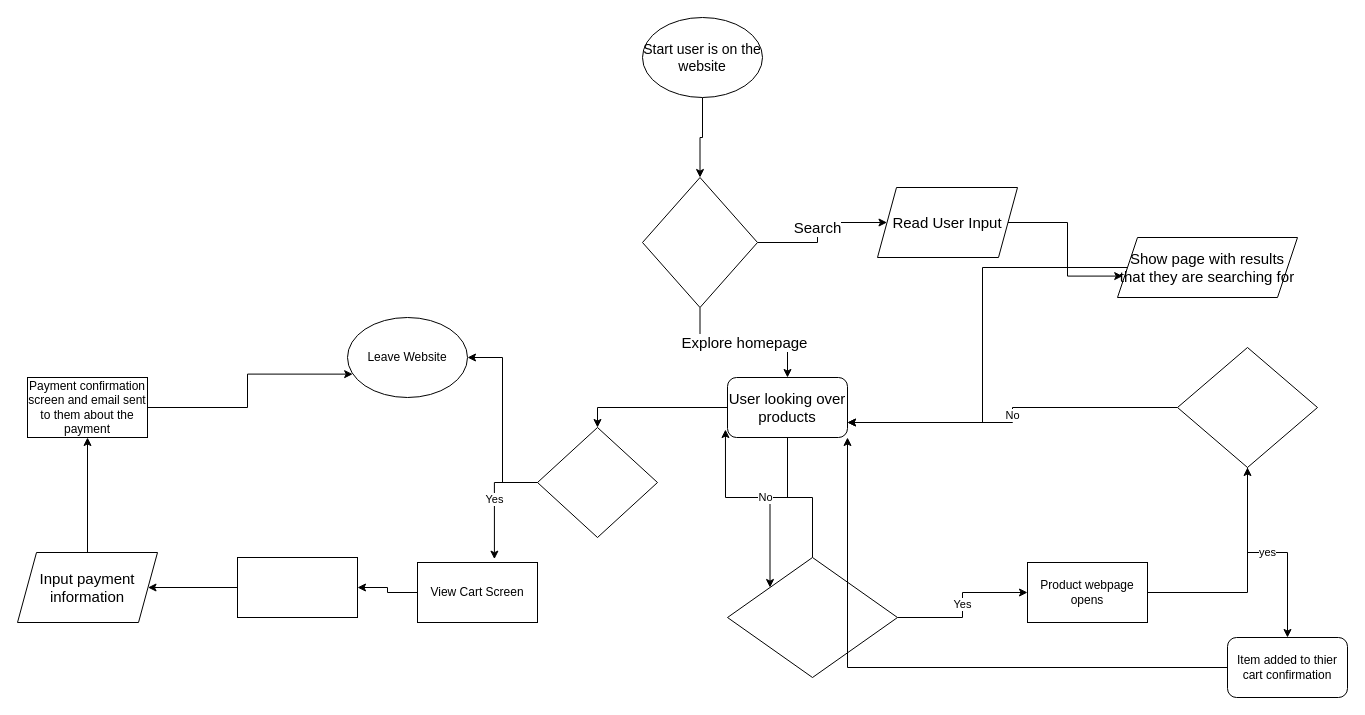
Image size: 1365x715. Some labels were removed from this diagram. Each missing label, with the centre of its shape:
Add this item to their cart: [1247,407]
End Search/ Start to Checkout: [597,482]
Search or Explore Homepage: [700,242]
View a certain product: [812,617]
View Payment Screen: [297,587]
